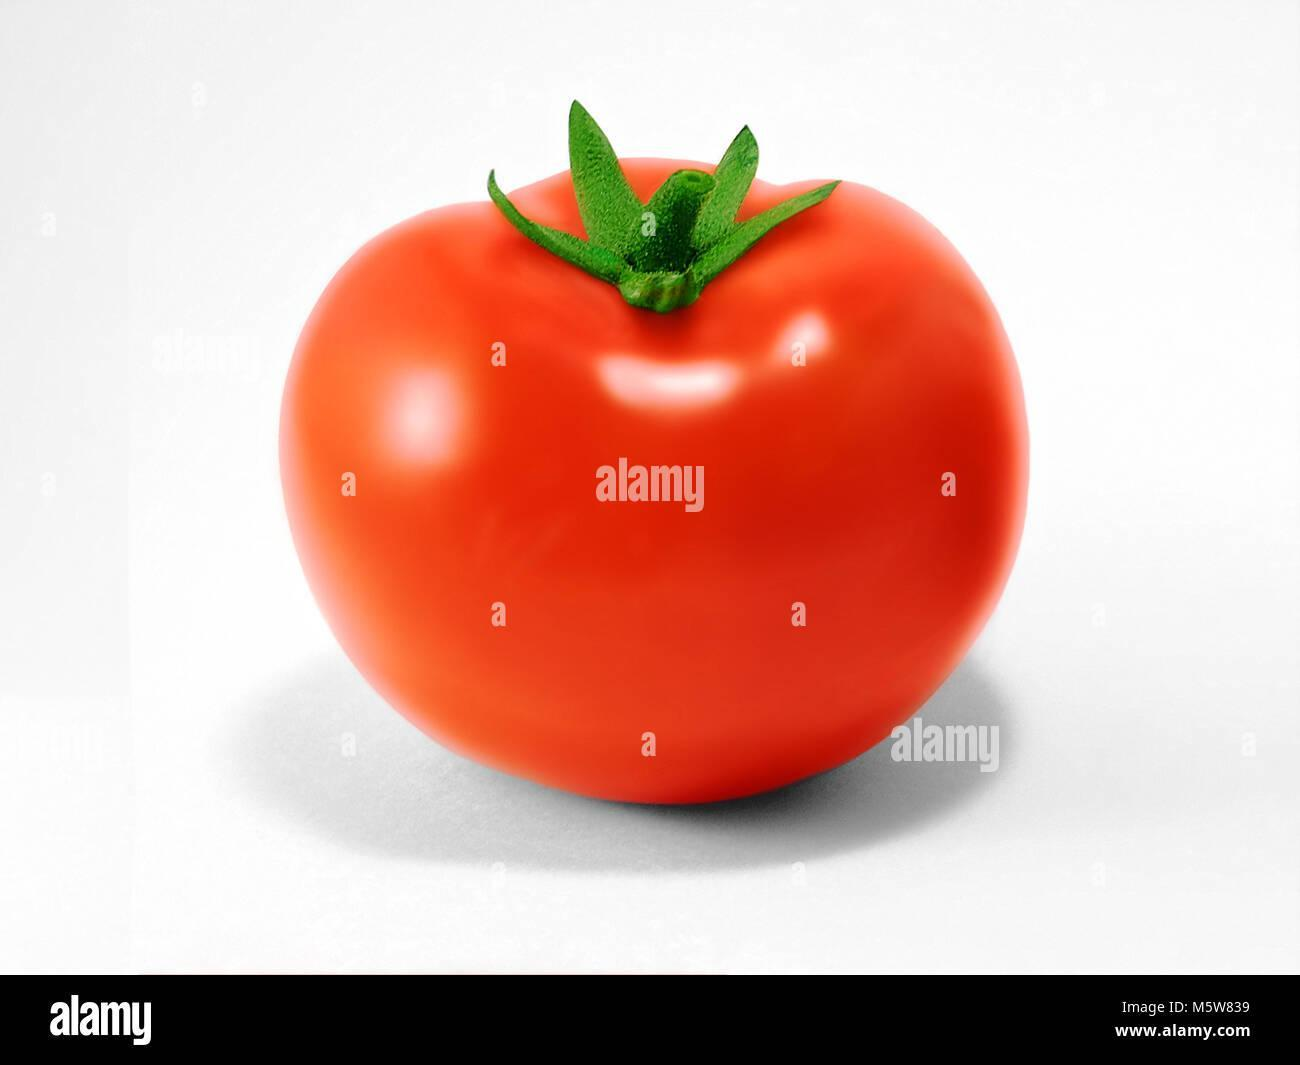healthy-tomato: (276, 107, 1024, 812)
